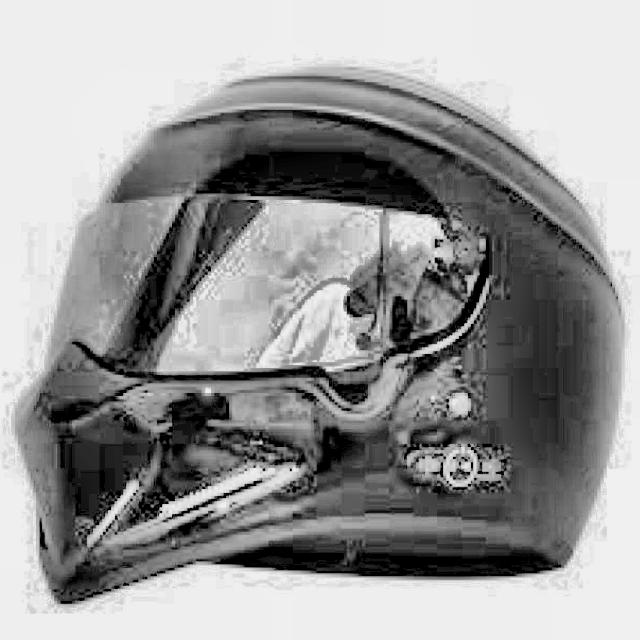Helmet: (24, 69, 623, 599)
